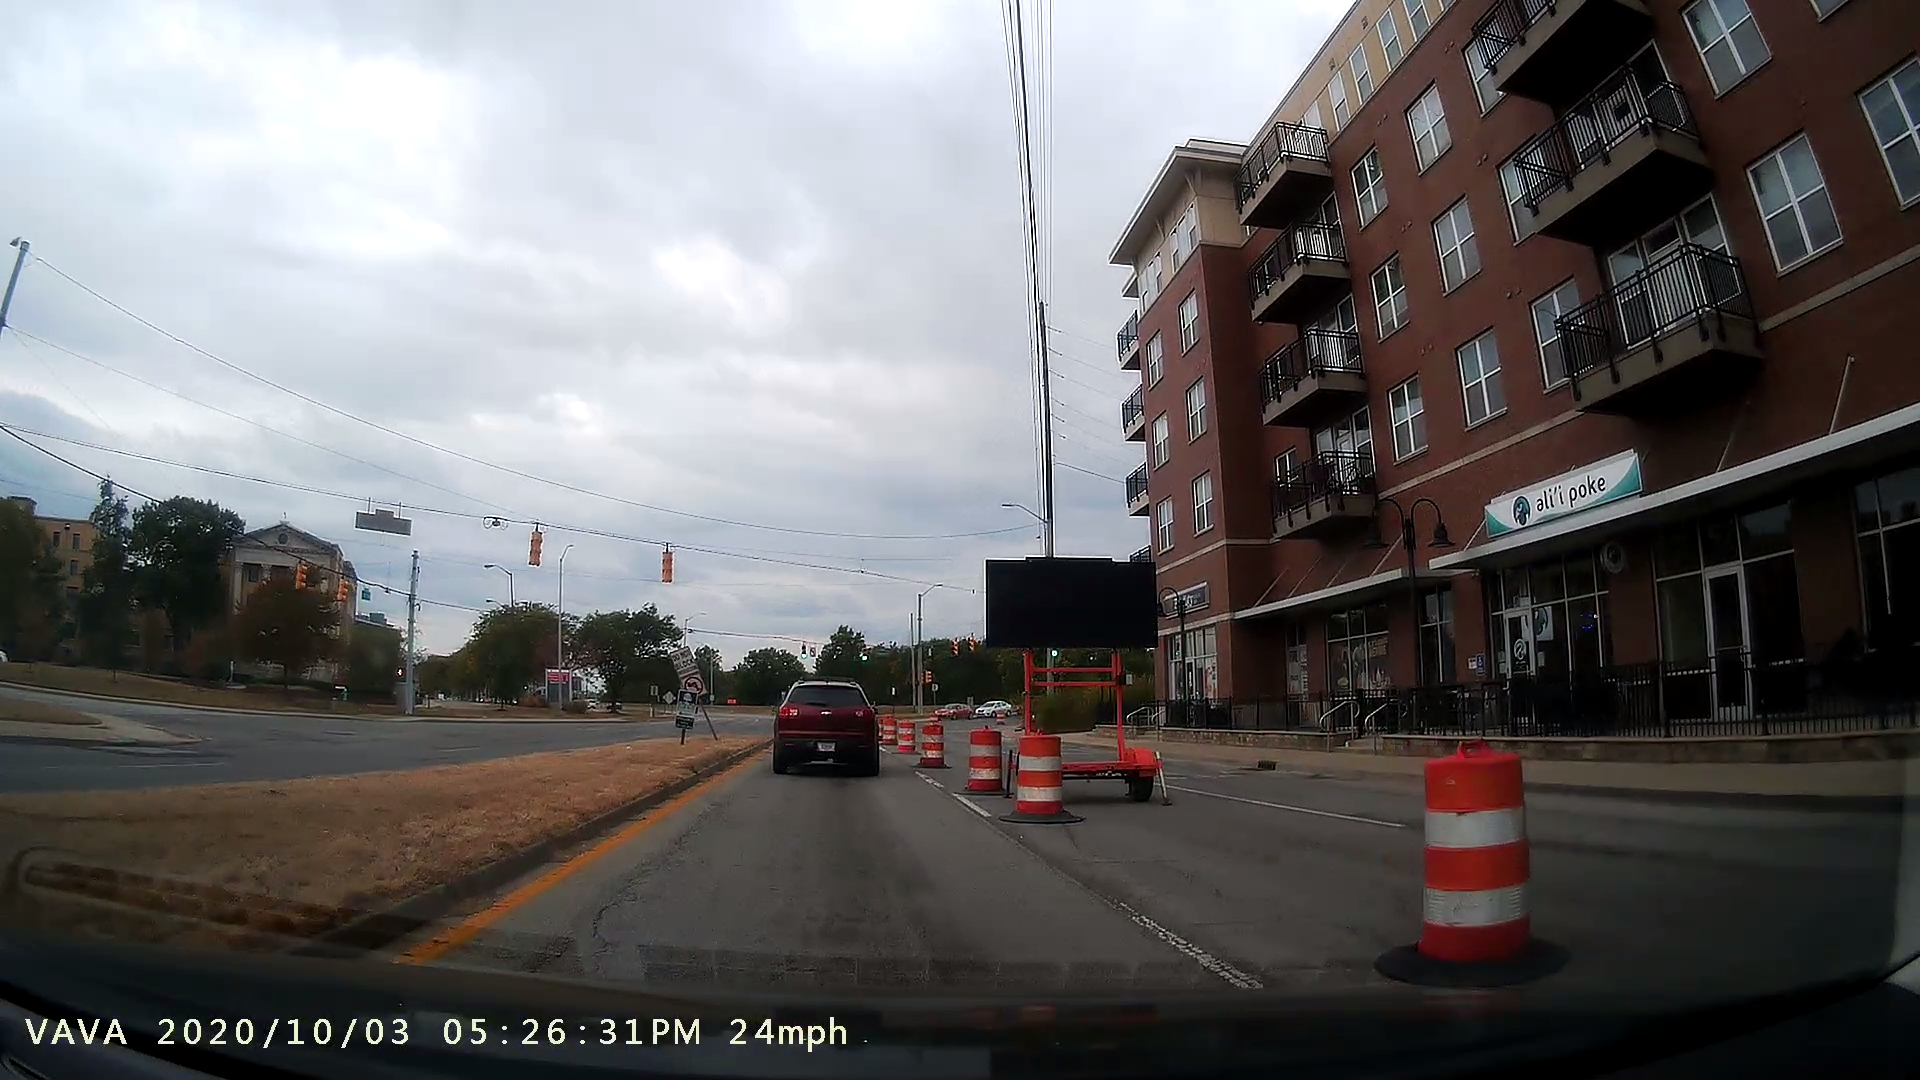const_barrel: (1361, 702, 1584, 997), (1009, 715, 1101, 835), (949, 713, 1007, 799)
